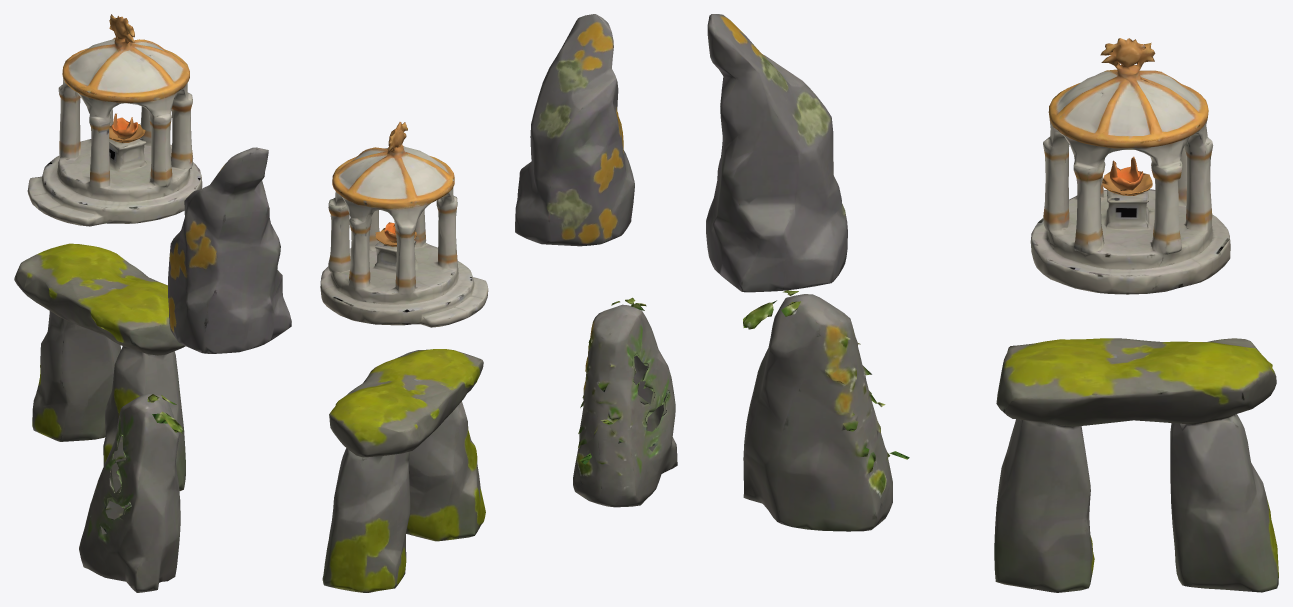
3 renders of one model, left to right at view 1: azimuth 30°, elevation 25°; view 2: azimuth 150°, elevation 25°; view 3: azimuth 270°, elevation 25°, orthographic. The views are drawn at different scales.
Visible parts, largest first — view 1: world; view 2: world; view 3: world.
Boxes of the visible parts, <box> form: world: <box>14,14,291,592</box>; world: <box>320,14,677,592</box>; world: <box>706,14,1278,592</box>.
Size of the model in its own units: 0.508 by 0.994 by 0.9524.
1 material, 1 textured.
